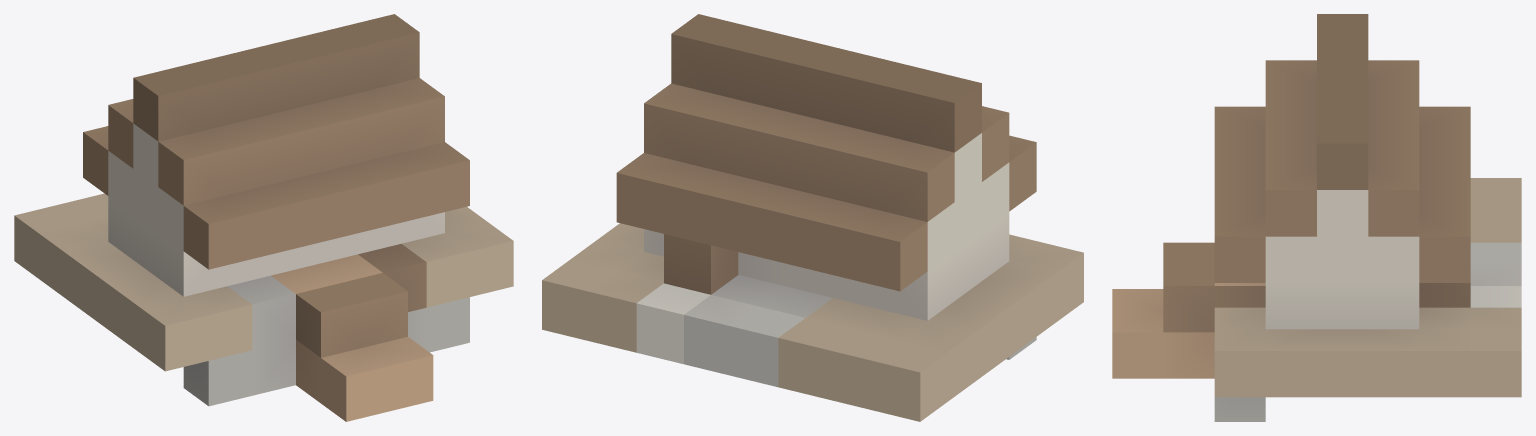
Rendered from depot.l1.lite.glb.
The picture shows the model from 3 angles, left to right: view 1: azimuth 30°, elevation 25°; view 2: azimuth 150°, elevation 25°; view 3: azimuth 270°, elevation 25°; orthographic projection. The views are drawn at different scales.
Parts seen in each view (by area): view 1: depot; view 2: depot; view 3: depot.
Part boxes in pixels (x1,y1,x2,y2): depot: (14, 14, 513, 421); depot: (542, 14, 1083, 421); depot: (1112, 14, 1521, 421).
Size of the model in its own units: 4 by 3 by 4.
